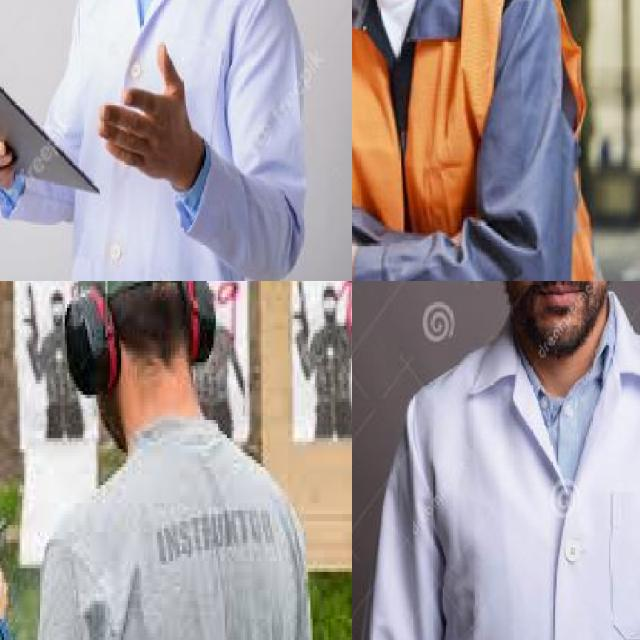Ear-protection: (58, 281, 121, 394), (173, 281, 216, 362)
face_nomask: (504, 281, 613, 312)
hand_noglove: (96, 39, 198, 188), (0, 115, 18, 200)
person: (44, 281, 312, 640), (374, 281, 640, 640), (40, 0, 303, 281), (352, 0, 614, 281)
vest: (352, 0, 607, 281)
